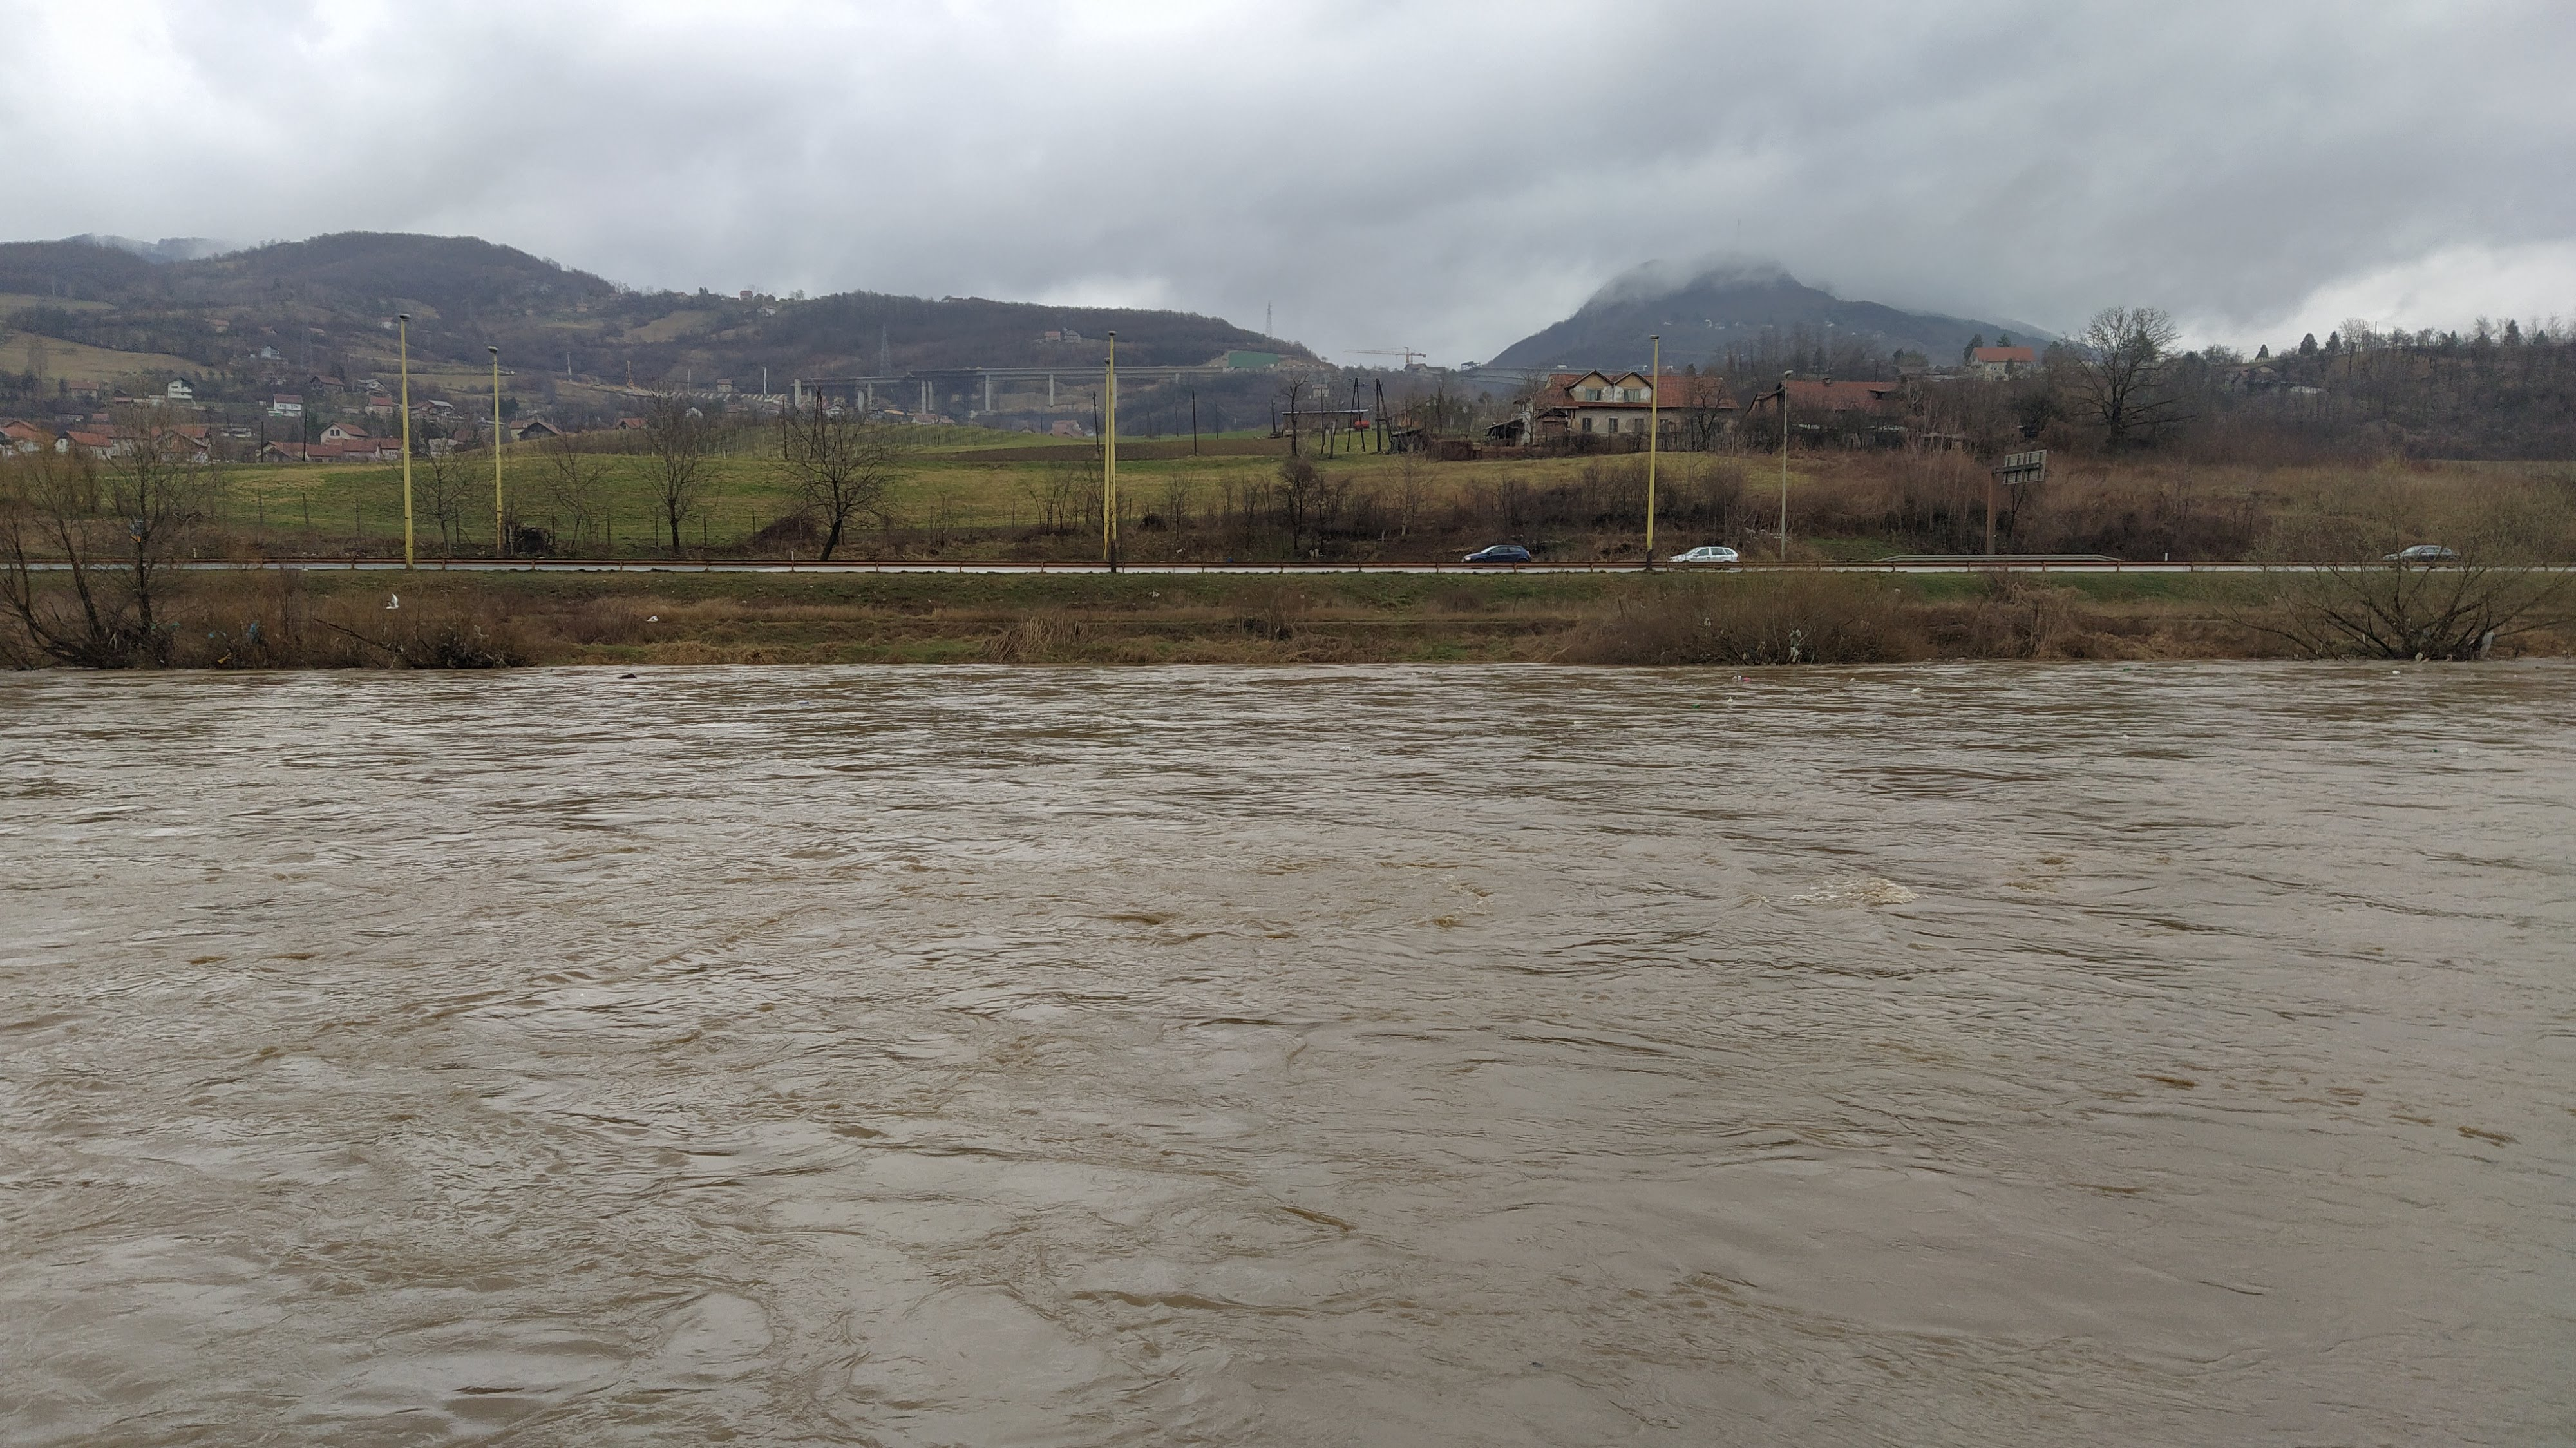Plastic Bottle: (1911, 687, 1921, 694), (1341, 745, 1352, 751), (798, 701, 809, 705), (1743, 676, 1750, 682), (2121, 735, 2128, 740), (708, 738, 713, 743), (2461, 747, 2466, 752), (2394, 669, 2399, 674), (1575, 720, 1582, 724), (1691, 703, 1697, 706), (2123, 667, 2128, 669), (2433, 749, 2436, 751)
